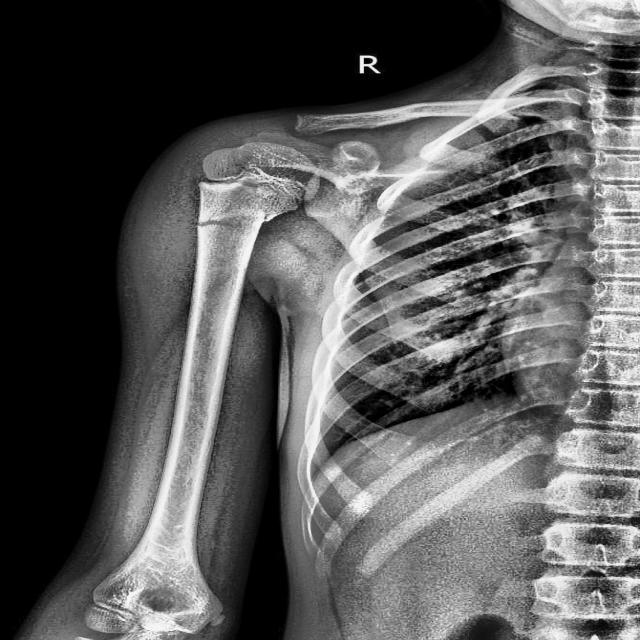fracture: (196, 216, 246, 233)
